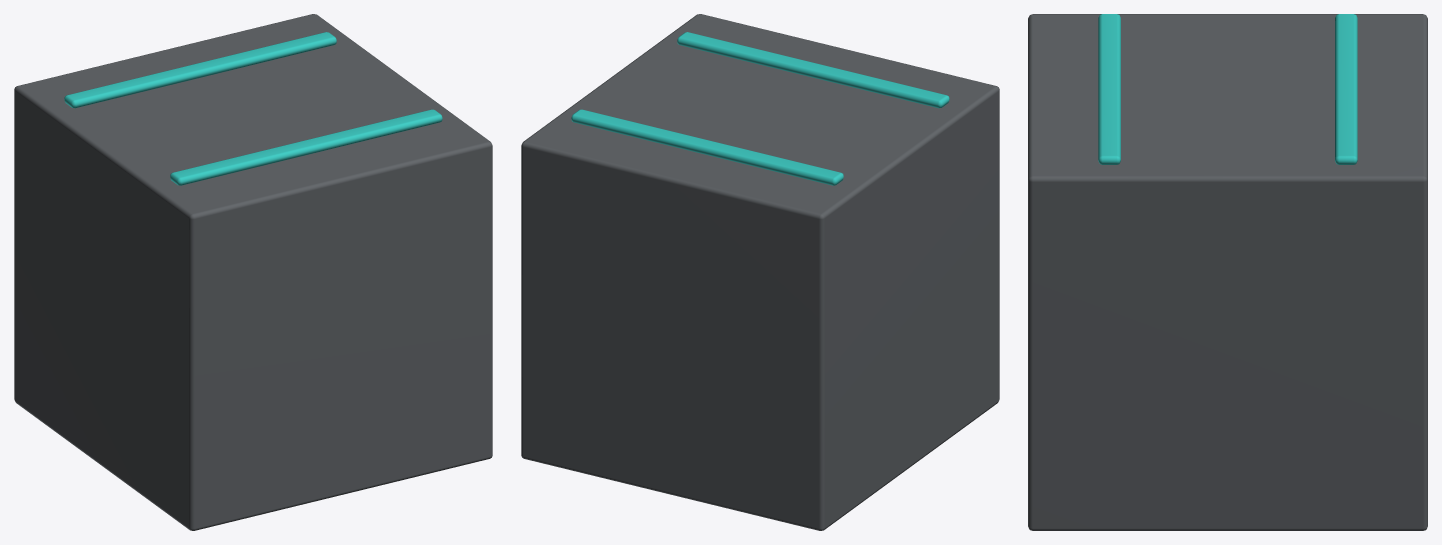
Rendered from ShockGrid.glb.
3 views of the same model, side by side, from view 1: azimuth 30°, elevation 25°; view 2: azimuth 150°, elevation 25°; view 3: azimuth 270°, elevation 25° (orthographic). The views are drawn at different scales.
Parts seen in each view (by area): view 1: solid wall.004, powered rail.001, powered rail; view 2: solid wall.004, powered rail, powered rail.001; view 3: solid wall.004, powered rail, powered rail.001.
Part boxes in pixels (x1,y1,x2,y2): solid wall.004: (14, 14, 492, 530); powered rail.001: (64, 32, 336, 108); powered rail: (170, 109, 442, 185); solid wall.004: (521, 14, 999, 530); powered rail: (677, 32, 949, 108); powered rail.001: (571, 109, 843, 185); solid wall.004: (1028, 14, 1427, 530); powered rail: (1098, 14, 1120, 164); powered rail.001: (1335, 14, 1357, 164).
Size of the model in its own units: 0.96 by 0.9875 by 0.98.
